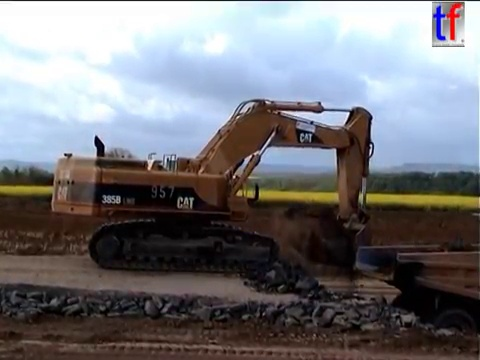excavator: (49, 96, 380, 278)
truck: (351, 240, 480, 360)
